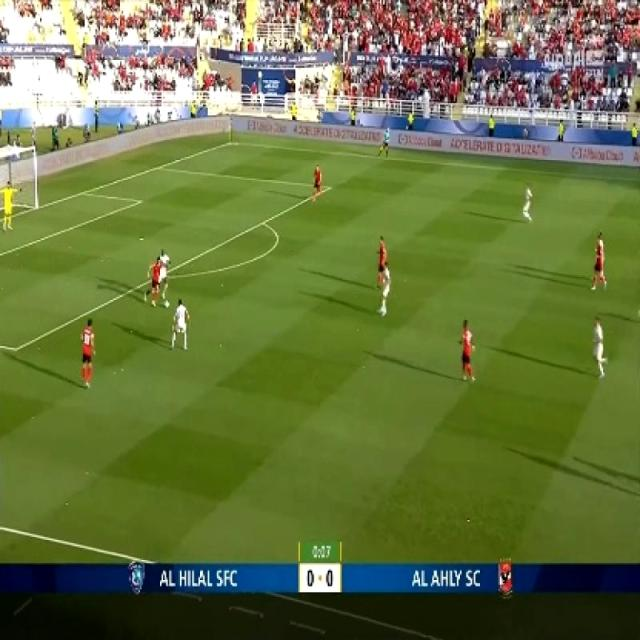bigarea_bottom_inner: (6, 335, 24, 360)
bigarea_top_inner: (320, 178, 334, 196)
bigarea_top_outter: (150, 158, 163, 172)
corner: (222, 136, 236, 146)
smallarea_top_inner: (132, 192, 146, 208)
smallarea_top_outter: (75, 182, 90, 198)
top_arc_area_intersection: (254, 212, 269, 231)
